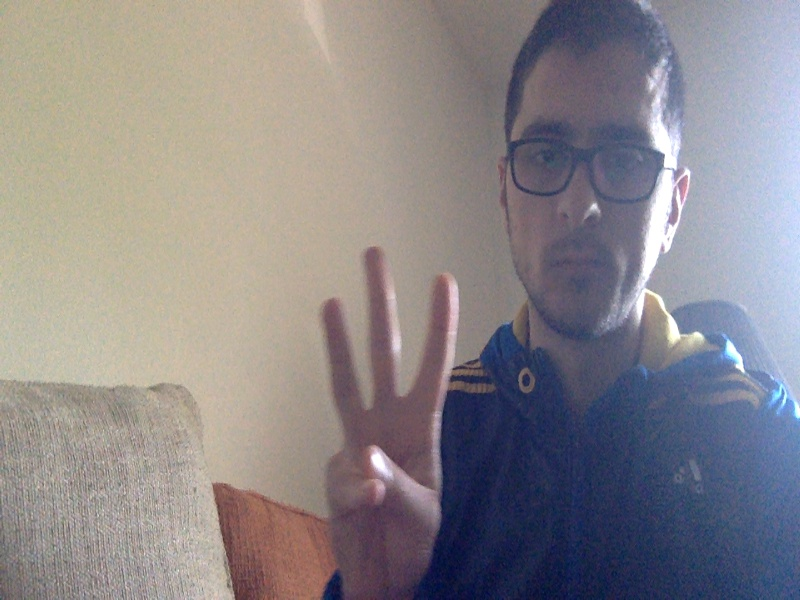3-hand: (319, 245, 457, 586)
